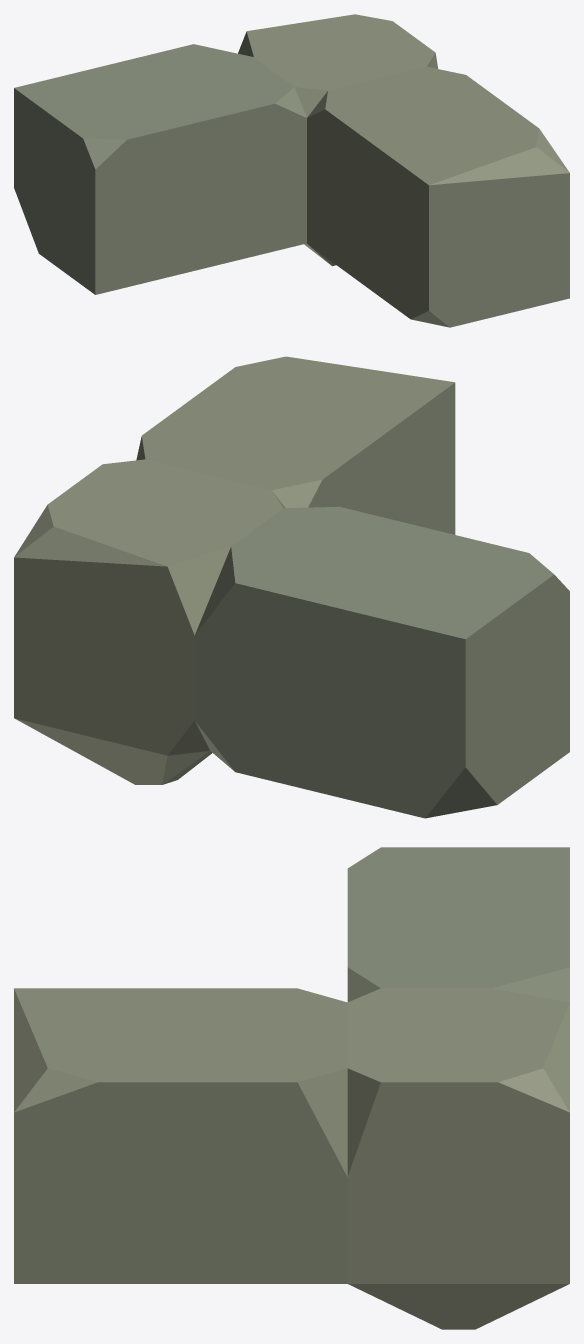
File: railing_corner_conv_low.fbx
3 renders of one model, top to bottom at view 1: azimuth 30°, elevation 25°; view 2: azimuth 150°, elevation 25°; view 3: azimuth 270°, elevation 25°, orthographic. The views are drawn at different scales.
Visible parts, largest first — view 1: railing_corner_conv_low; view 2: railing_corner_conv_low; view 3: railing_corner_conv_low.
Boxes of the visible parts, <box> form: railing_corner_conv_low: <box>14,14,569,327</box>; railing_corner_conv_low: <box>14,356,569,818</box>; railing_corner_conv_low: <box>14,847,569,1329</box>.
Bounding box in the file's own units: 125 × 71.25 × 125.
